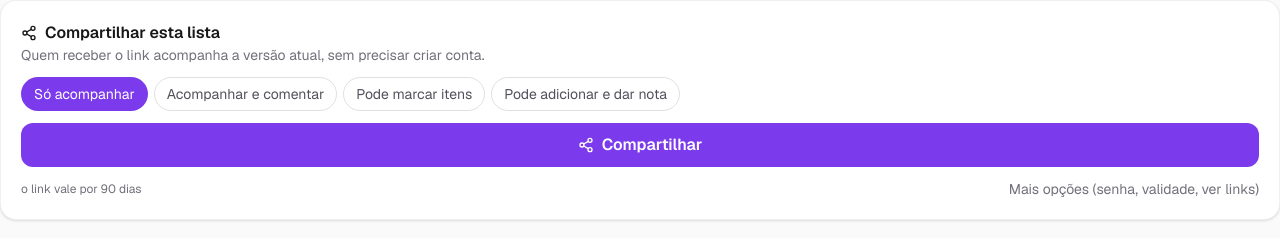
Test: ShareFooter › cria o link com a permissão escolhida e mostra WhatsApp com a mensagem
Click the radio button labelled "Pode marcar itens".
click(414, 94)  # box top-left (343, 77), bottom-right (485, 111)
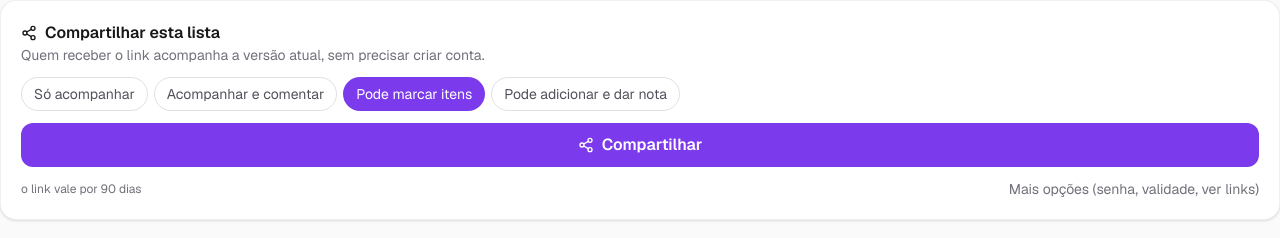
Click the button "Compartilhar".
click(640, 145)  # box top-left (21, 123), bottom-right (1259, 167)
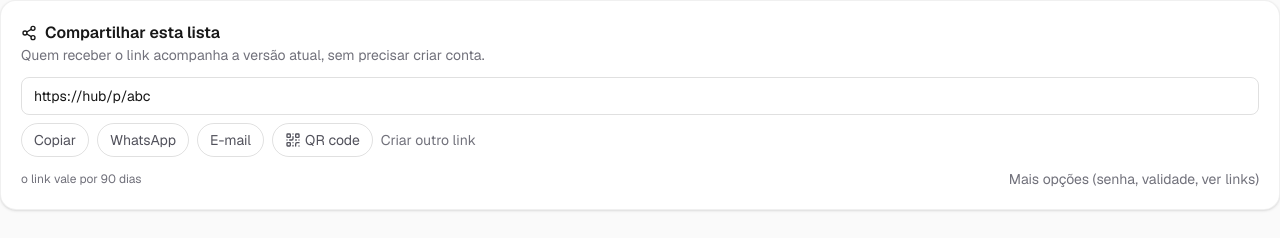
Check: the field showing "https://hub/p/abc" is shown, box top-left (21, 77), bottom-right (1259, 115)
